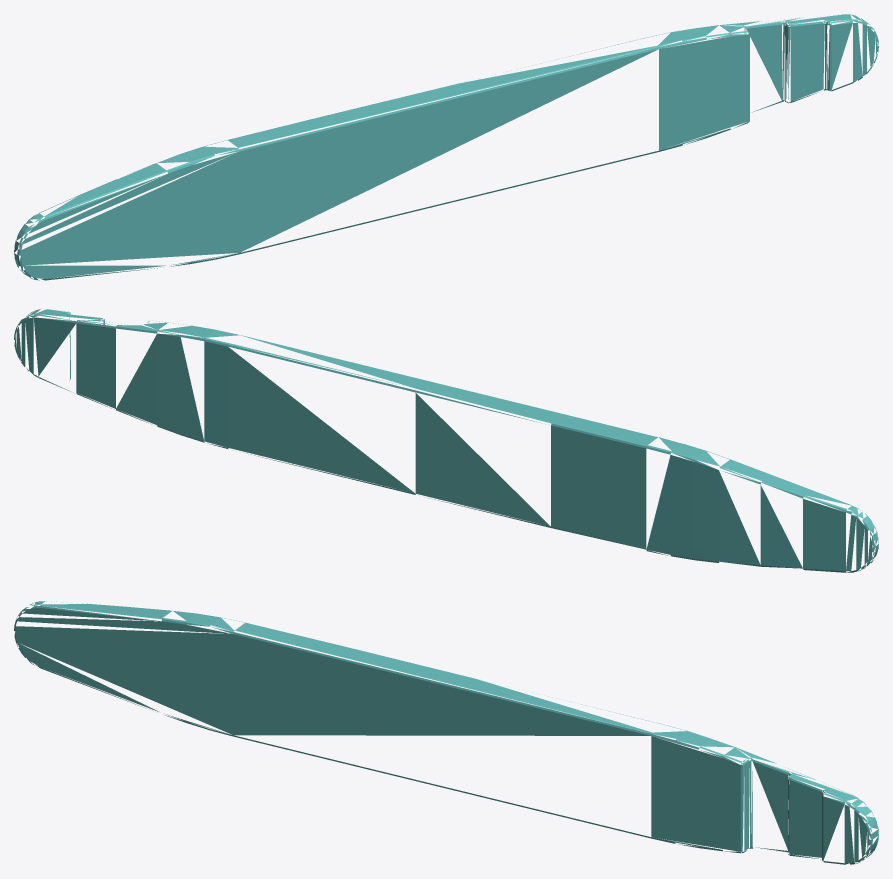
Rendered from handTool_pry_bar_wide_a01.glb.
3 renders of one model, top to bottom at view 1: azimuth 30°, elevation 25°; view 2: azimuth 150°, elevation 25°; view 3: azimuth 330°, elevation 25°, orthographic.
Parts seen in each view (by area): view 1: geometry_0; view 2: geometry_0; view 3: geometry_0.
Boxes of the visible parts, x1=… form: geometry_0: x1=14, y1=14, x2=878, y2=280; geometry_0: x1=14, y1=309, x2=878, y2=572; geometry_0: x1=14, y1=601, x2=878, y2=864.
Size of the model in its own units: 0.48 by 0.0567 by 0.0132.
